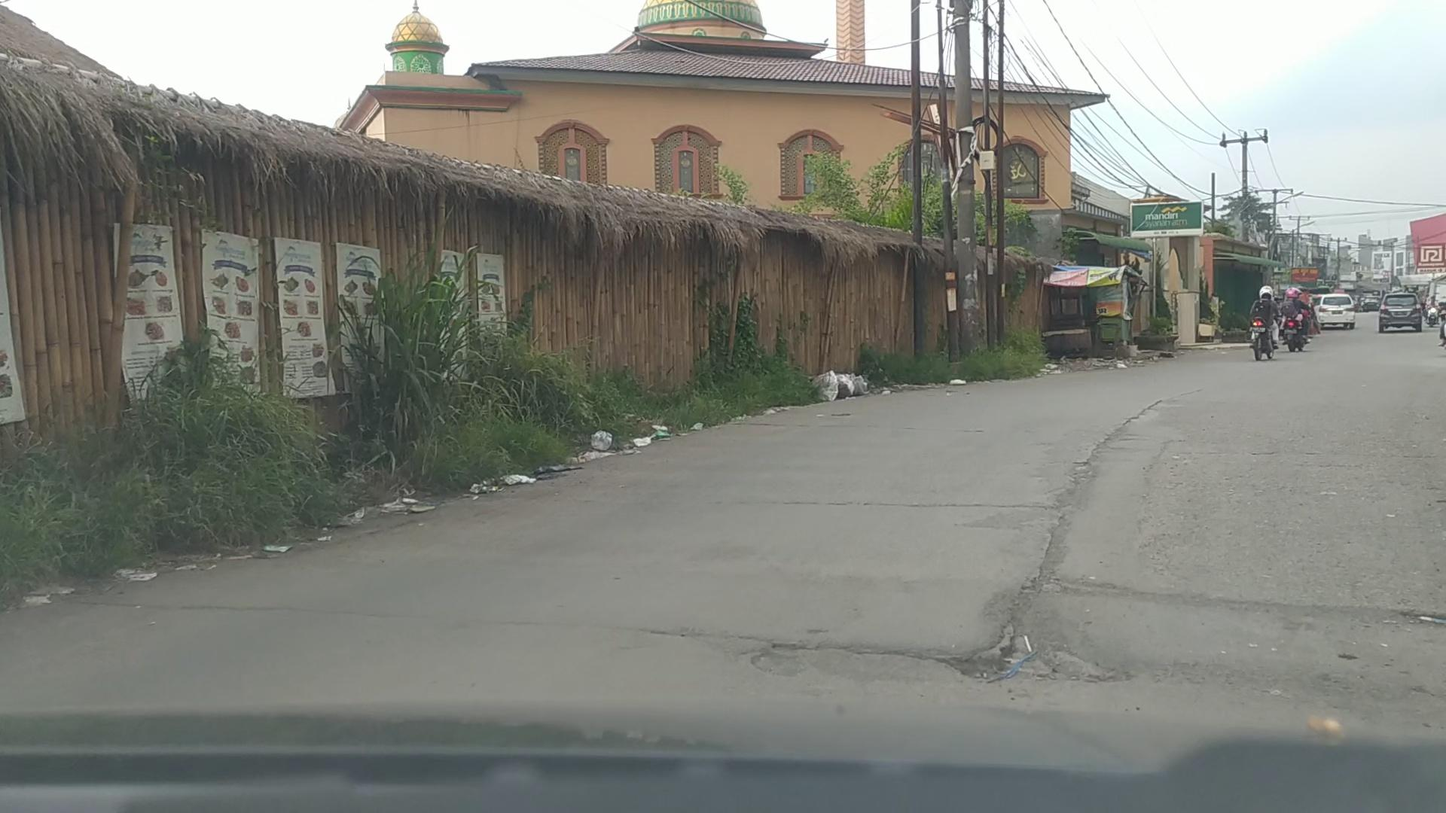pothole: (922, 516, 1135, 684), (747, 639, 805, 676)
